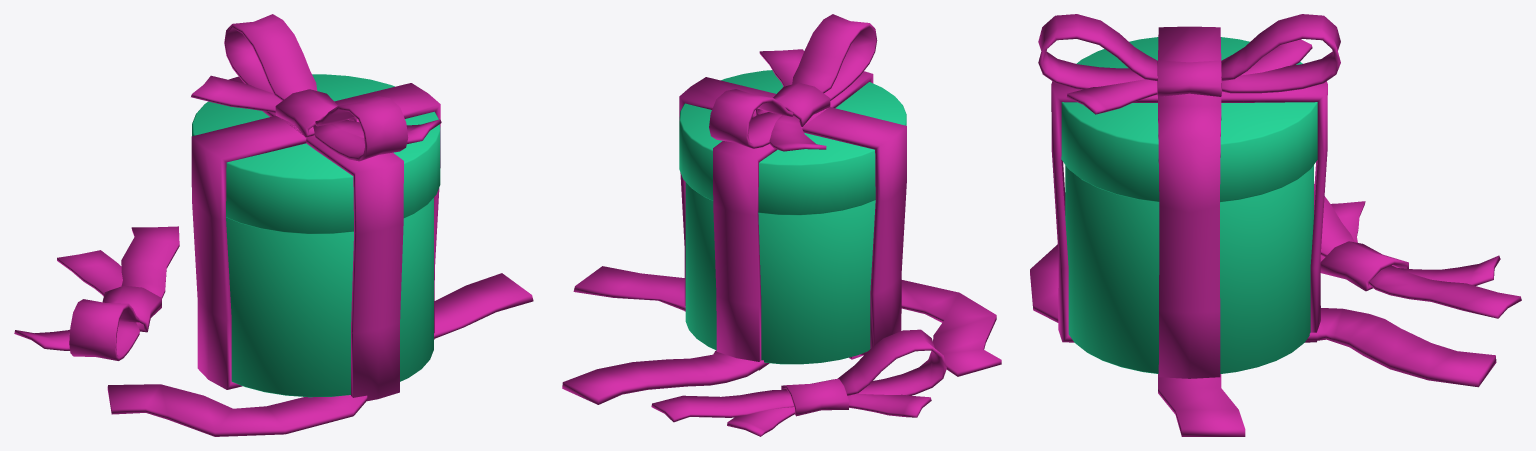
File: gift_3.fbx
The picture shows the model from 3 angles, left to right: view 1: azimuth 30°, elevation 25°; view 2: azimuth 150°, elevation 25°; view 3: azimuth 270°, elevation 25°; orthographic projection. The views are drawn at different scales.
Visible parts, largest first — view 1: band_3, box_3, band_1_open.001, cap_3; view 2: band_3, band_1_open.001, box_3, cap_3; view 3: band_3, box_3, band_1_open.001, cap_3.
Part boxes in pixels (left/top/right/bottom): band_3: left=191, top=14, right=441, bottom=401; box_3: left=226, top=198, right=433, bottom=397; band_1_open.001: left=14, top=226, right=533, bottom=436; cap_3: left=192, top=74, right=440, bottom=233; band_3: left=679, top=14, right=906, bottom=370; band_1_open.001: left=562, top=266, right=1001, bottom=436; box_3: left=685, top=182, right=875, bottom=364; cap_3: left=679, top=70, right=906, bottom=215; band_3: left=1038, top=14, right=1340, bottom=378; box_3: left=1065, top=165, right=1313, bottom=373; band_1_open.001: left=1030, top=184, right=1521, bottom=436; cap_3: left=1061, top=37, right=1317, bottom=202.
Size of the model in its own units: 211 by 136 by 197.
